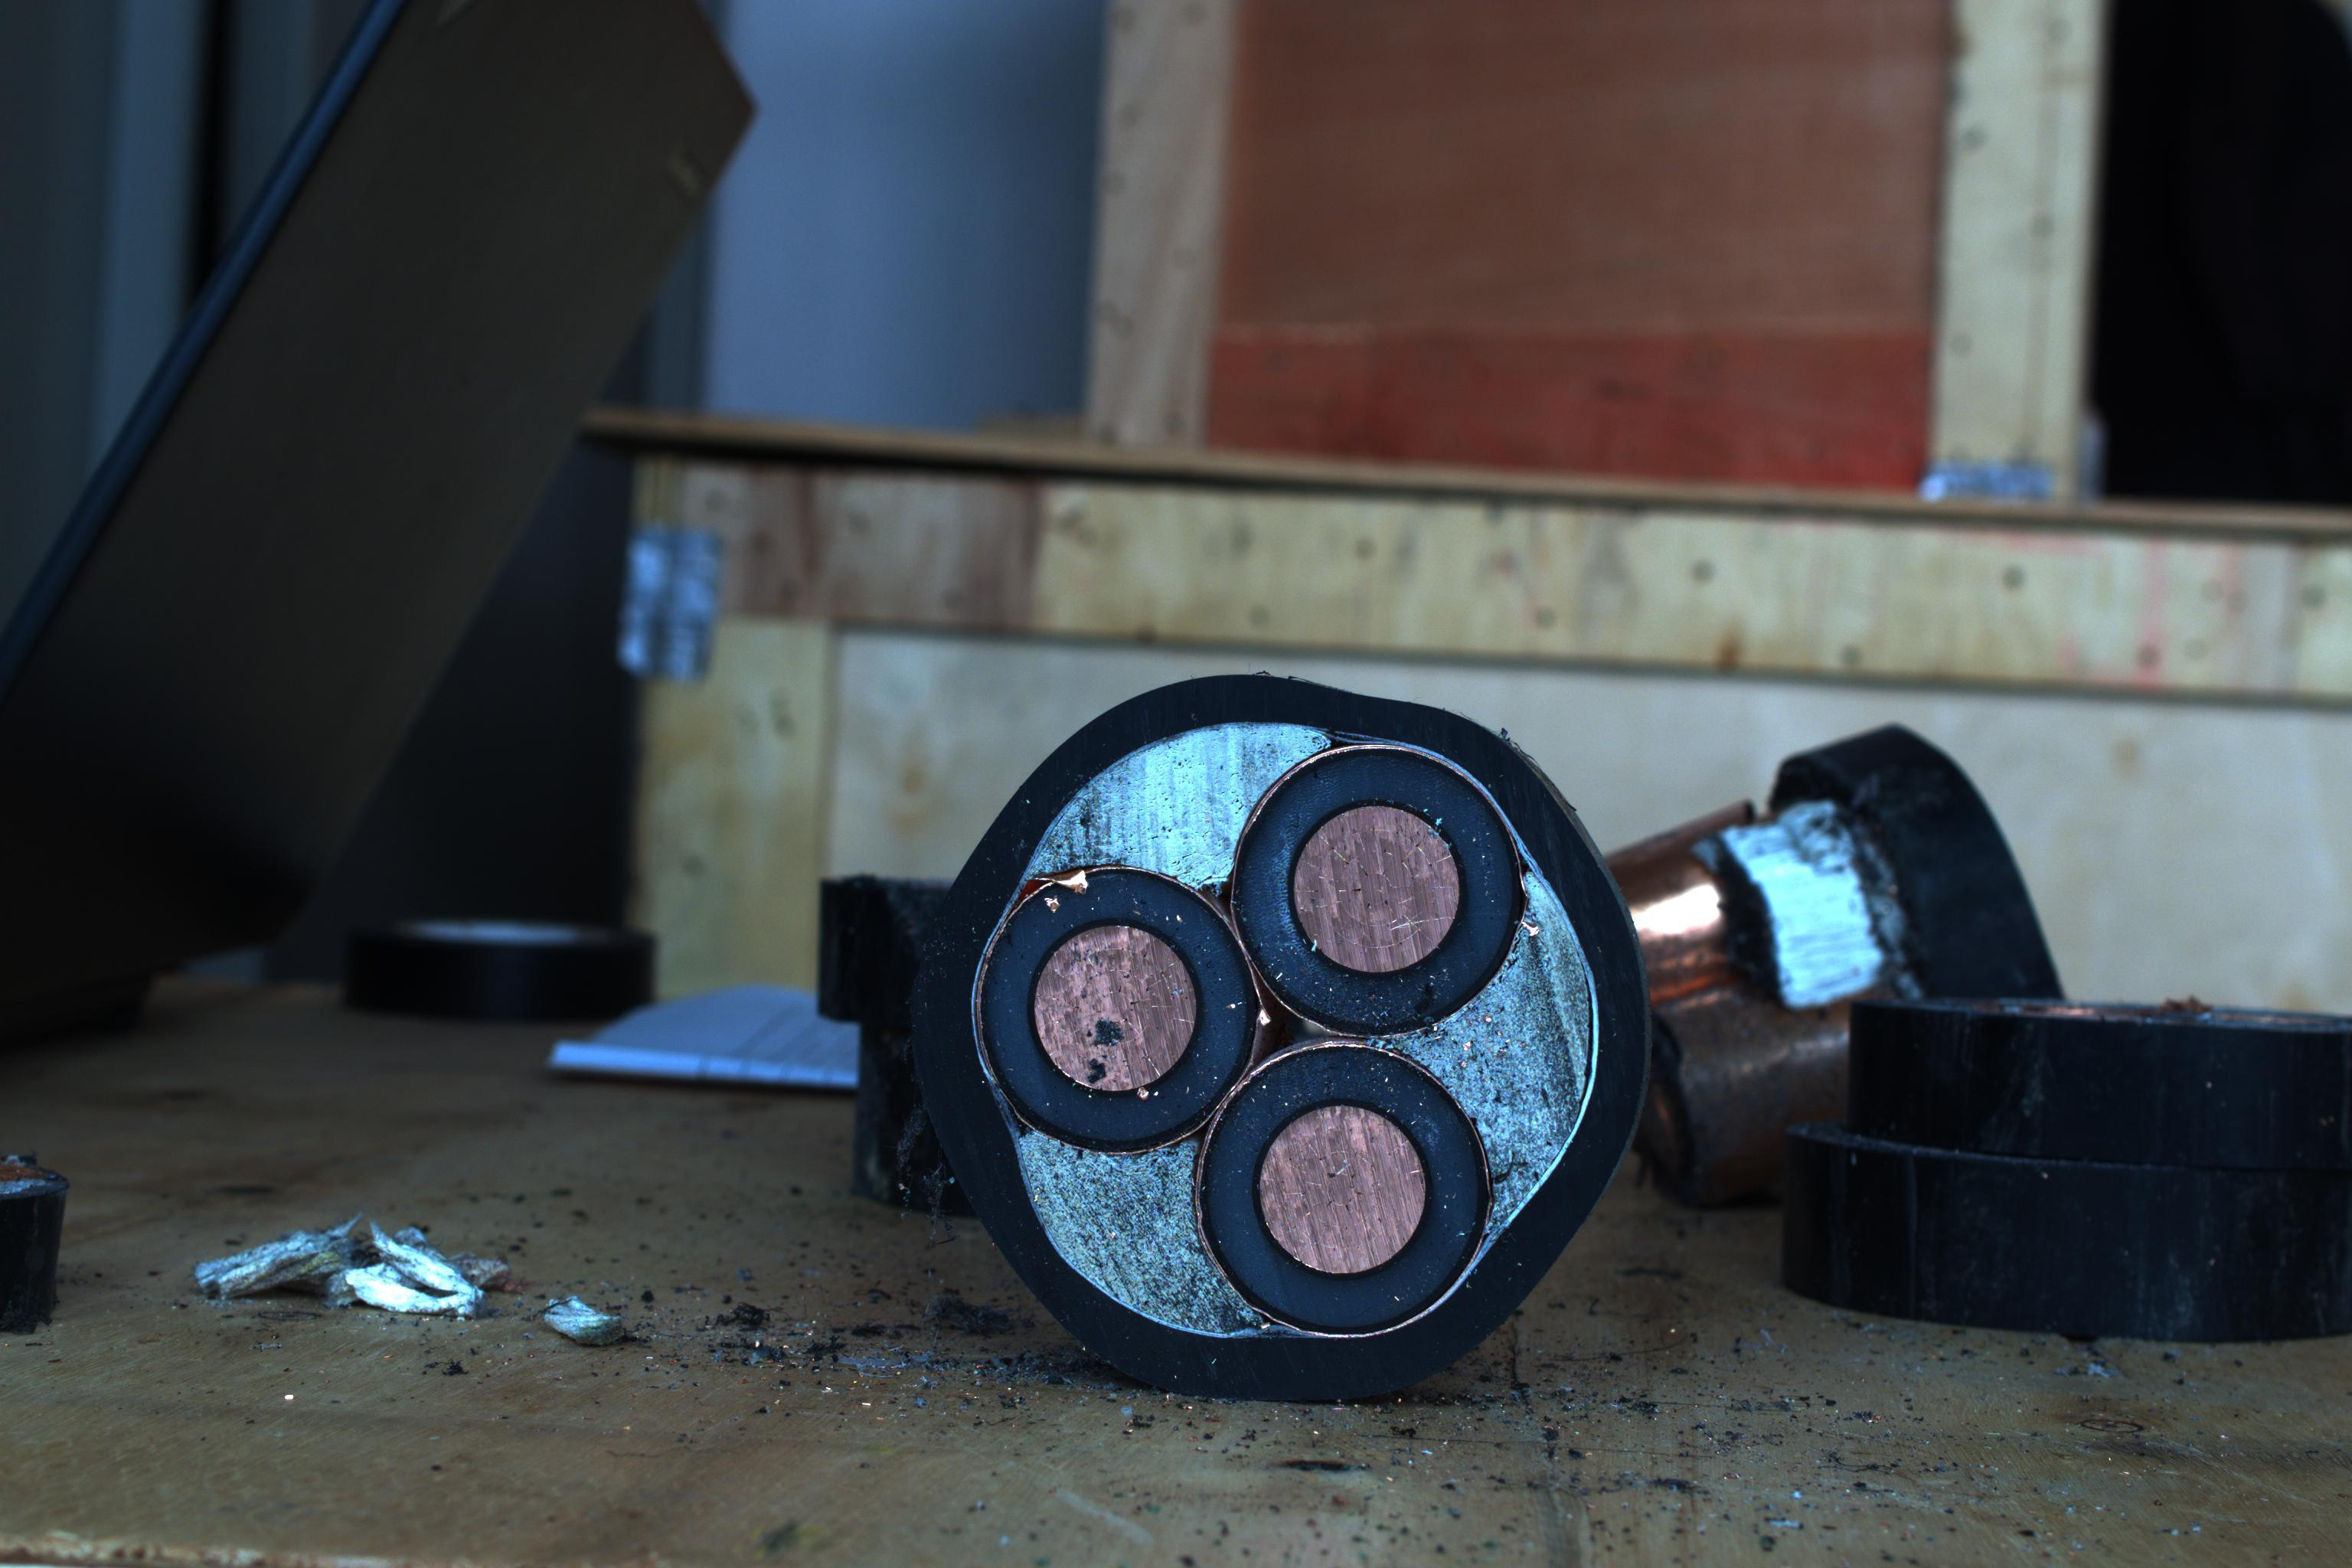ZA_YJV_8.7_10kV_3x240: (1003, 710, 1624, 1384)
